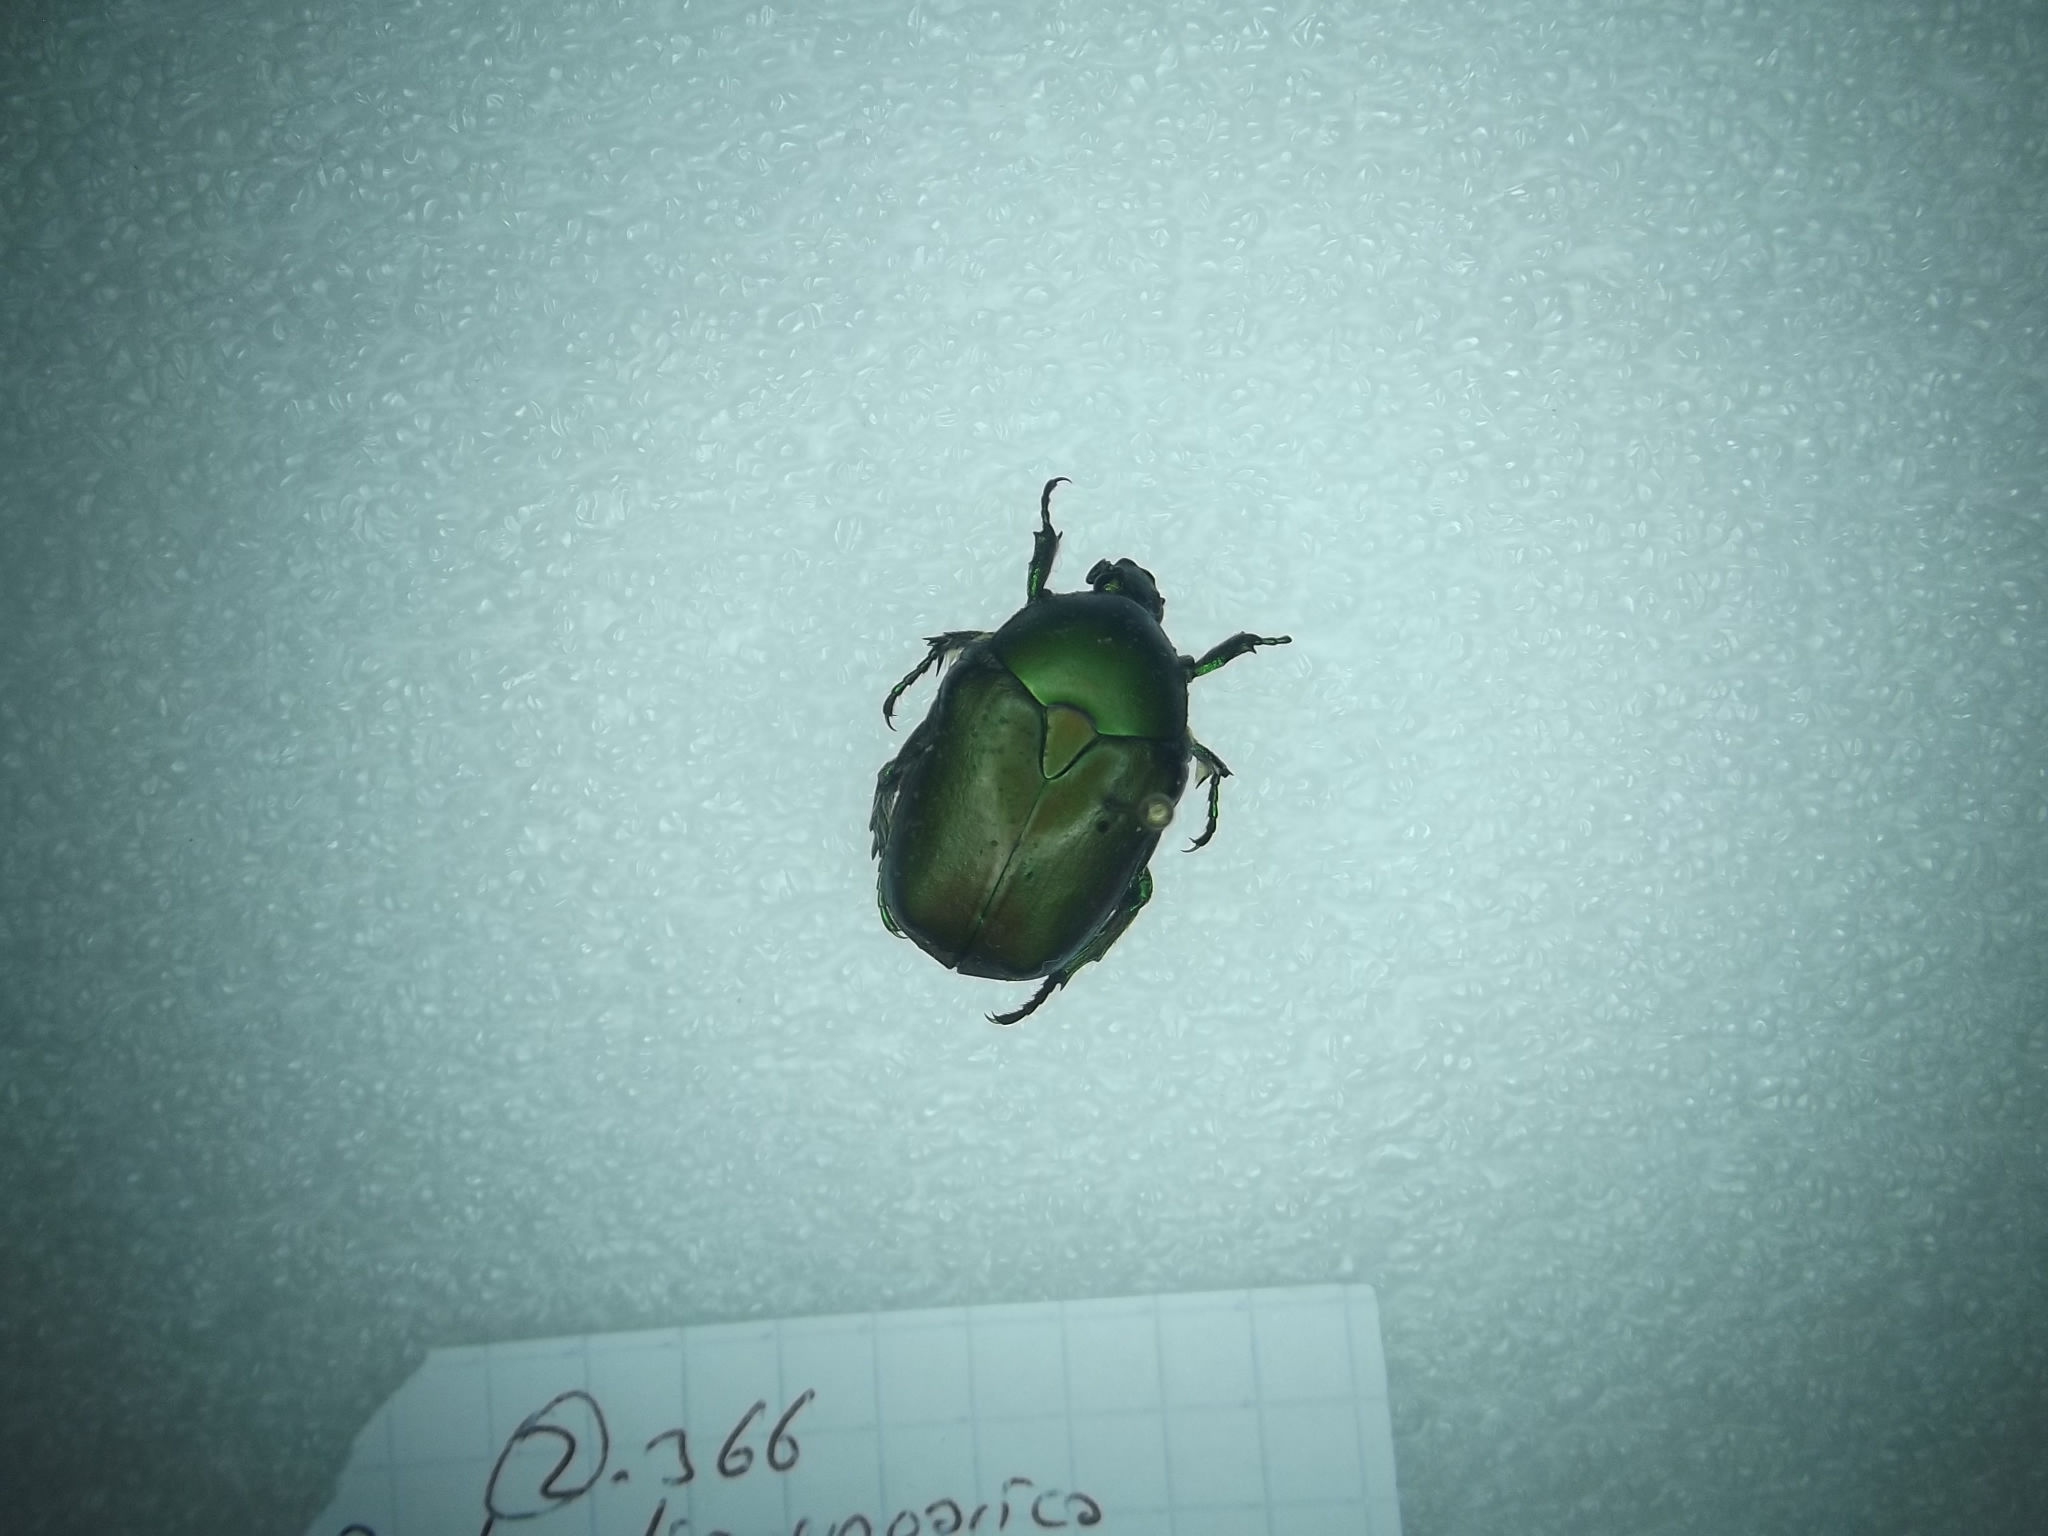Protaetia_ungarica_auliensis: (847, 463, 1306, 1033)
